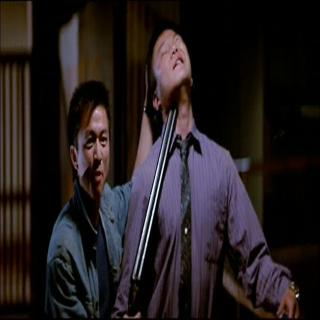gun: (116, 98, 182, 316)
